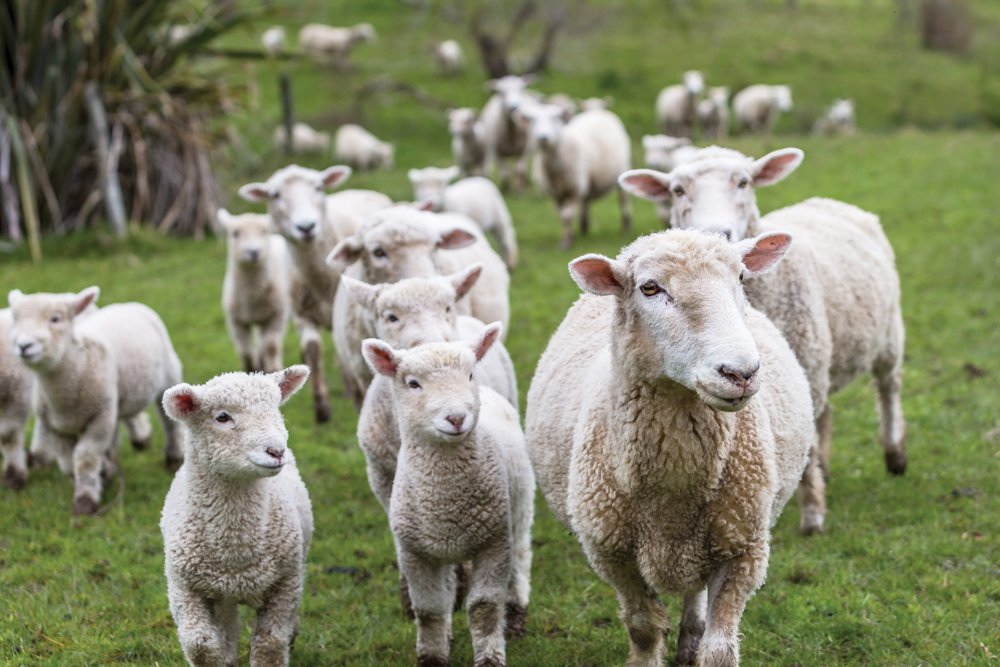sheep: (530, 237, 825, 652), (636, 138, 910, 412), (366, 341, 550, 644), (157, 379, 337, 665), (346, 272, 543, 495), (1, 288, 189, 487), (253, 151, 368, 306), (515, 72, 626, 222), (218, 198, 304, 386), (305, 117, 407, 204), (411, 156, 497, 251), (654, 44, 732, 137), (464, 66, 537, 152), (272, 17, 373, 73), (736, 73, 785, 145), (428, 41, 466, 79)
